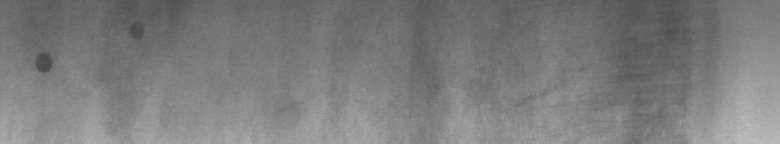fi: (32, 45, 56, 79)
